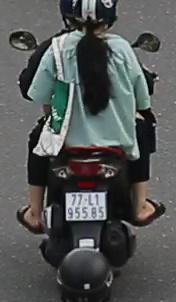LP: (64, 189, 110, 226)
